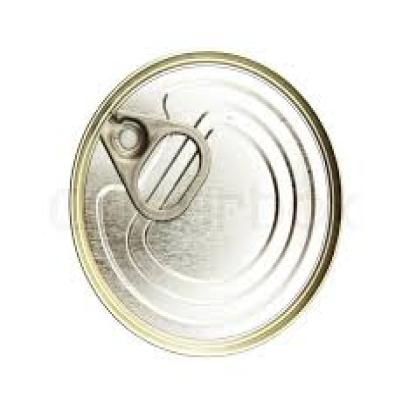trash: (70, 52, 340, 354)
